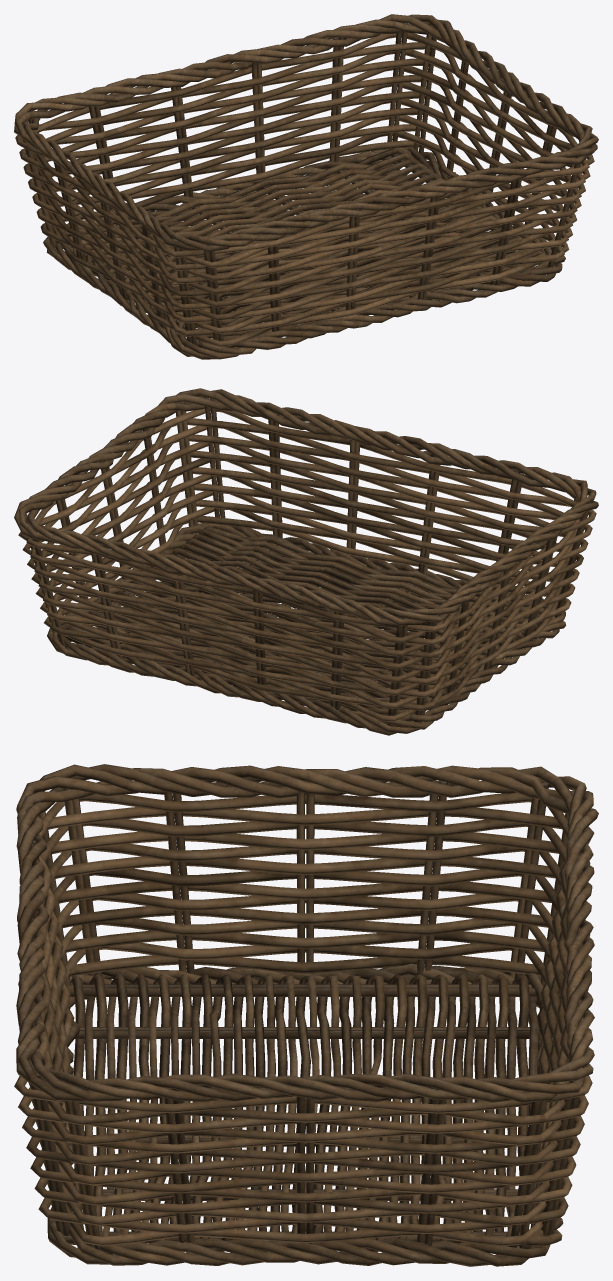
File: wicker_basket_01.glb
3 views of the same model, one above another, from view 1: azimuth 30°, elevation 25°; view 2: azimuth 150°, elevation 25°; view 3: azimuth 270°, elevation 25° (orthographic). The views are drawn at different scales.
Parts seen in each view (by area): view 1: wicker_basket_01; view 2: wicker_basket_01; view 3: wicker_basket_01.
Part boxes in pixels (x1,y1,x2,y2): wicker_basket_01: [14, 14, 598, 359]; wicker_basket_01: [14, 388, 598, 735]; wicker_basket_01: [14, 764, 598, 1266].
Bounding box in the file's own units: 0.3832 × 0.1174 × 0.295.
1 material, 1 textured.
